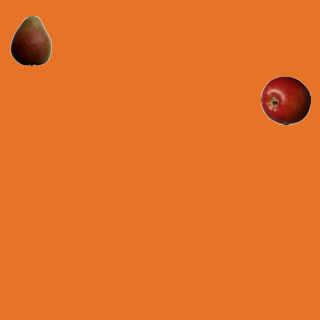Apple Braeburn: (260, 75, 310, 125)
Pear Forelle: (5, 15, 55, 65)
